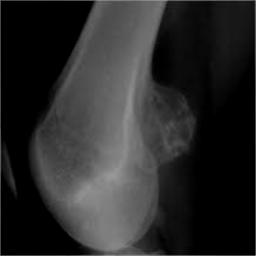cancer: (135, 72, 197, 175)
